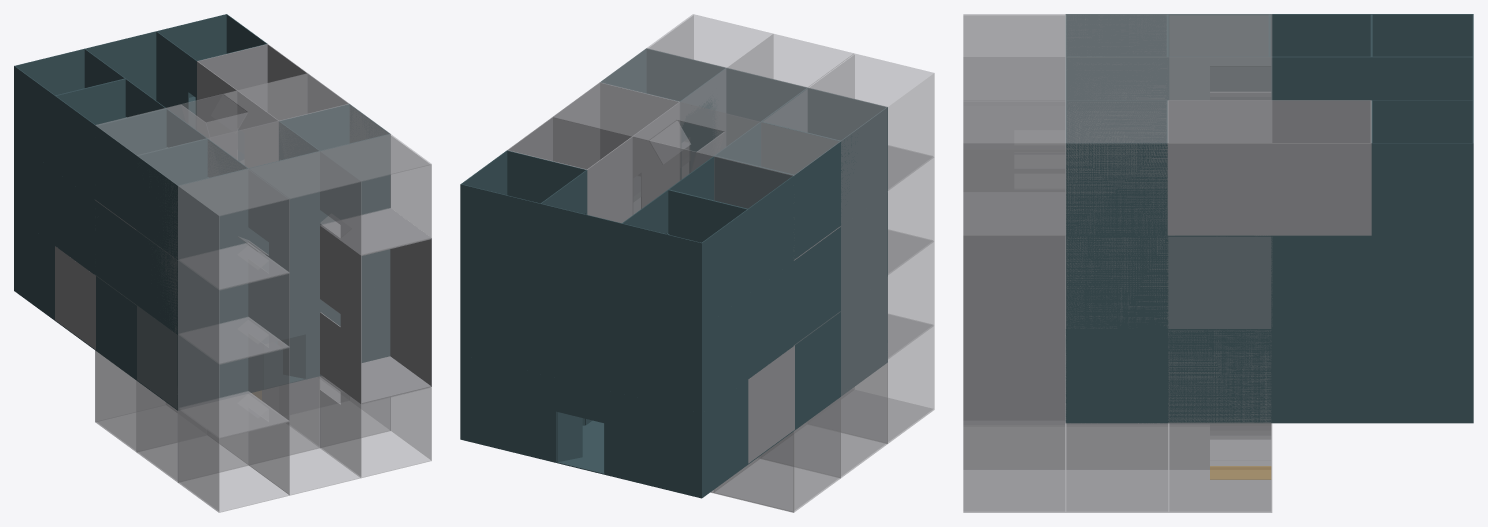
File: 第五组 2.glb
The picture shows the model from 3 angles, left to right: view 1: azimuth 30°, elevation 25°; view 2: azimuth 150°, elevation 25°; view 3: azimuth 270°, elevation 25°; orthographic projection. The views are drawn at different scales.
Size of the model in its own units: 0.015 by 0.02 by 0.025.
